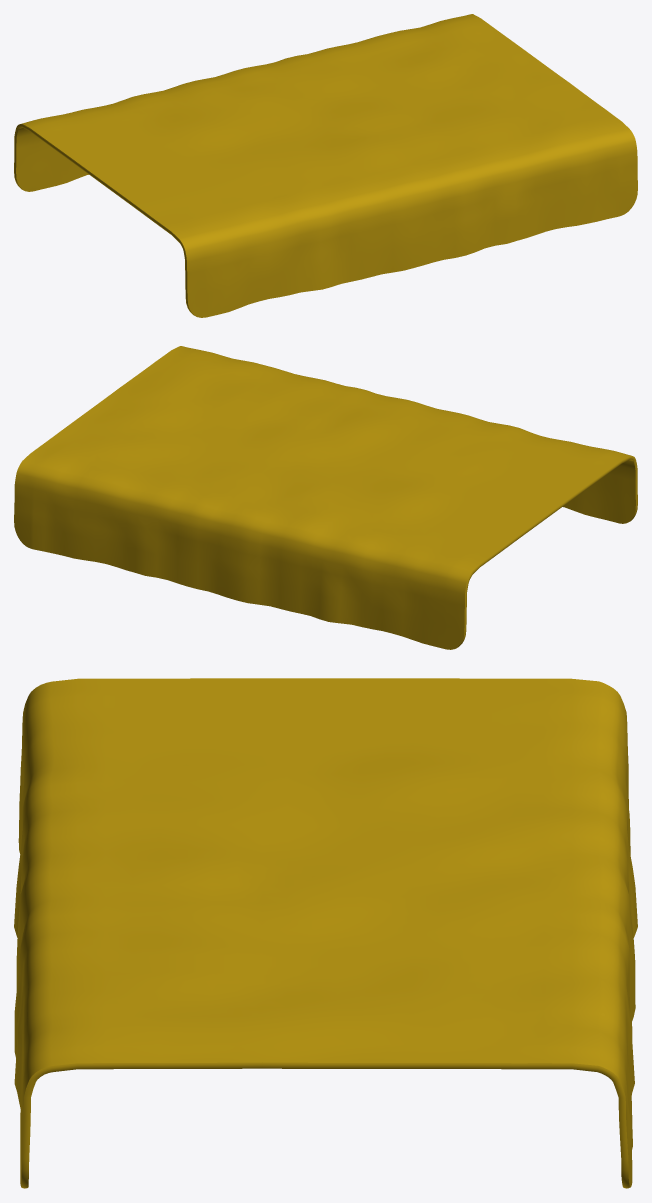
File: Bedsheet.glb
3 renders of one model, top to bottom at view 1: azimuth 30°, elevation 25°; view 2: azimuth 150°, elevation 25°; view 3: azimuth 270°, elevation 25°, orthographic. The views are drawn at different scales.
Visible parts, largest first — view 1: Blanket; view 2: Blanket; view 3: Blanket.
Boxes of the visible parts, x1,y1,x2,y2 form: Blanket: (14,14,637,317); Blanket: (14,346,637,649); Blanket: (14,678,637,1188).
Bounding box in the file's own units: 1.68 × 0.2915 × 1.15.
